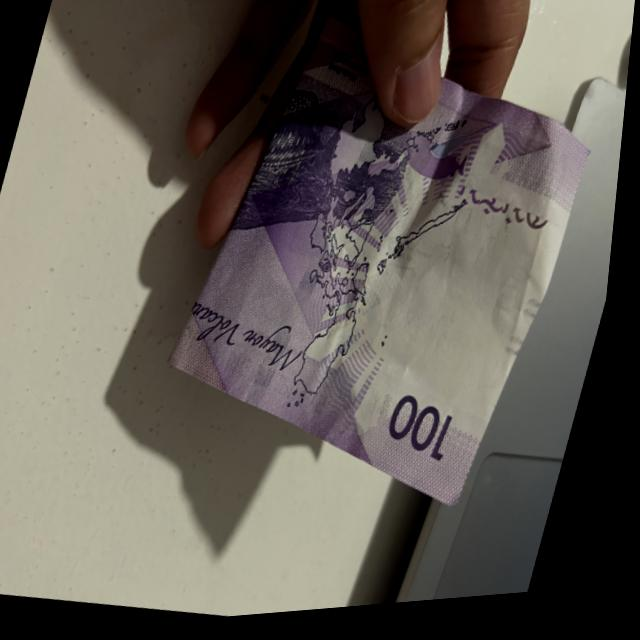100_whale: (258, 101, 353, 224)
100_whale_watermark: (404, 140, 476, 200)
value_watermark: (491, 267, 539, 339)
